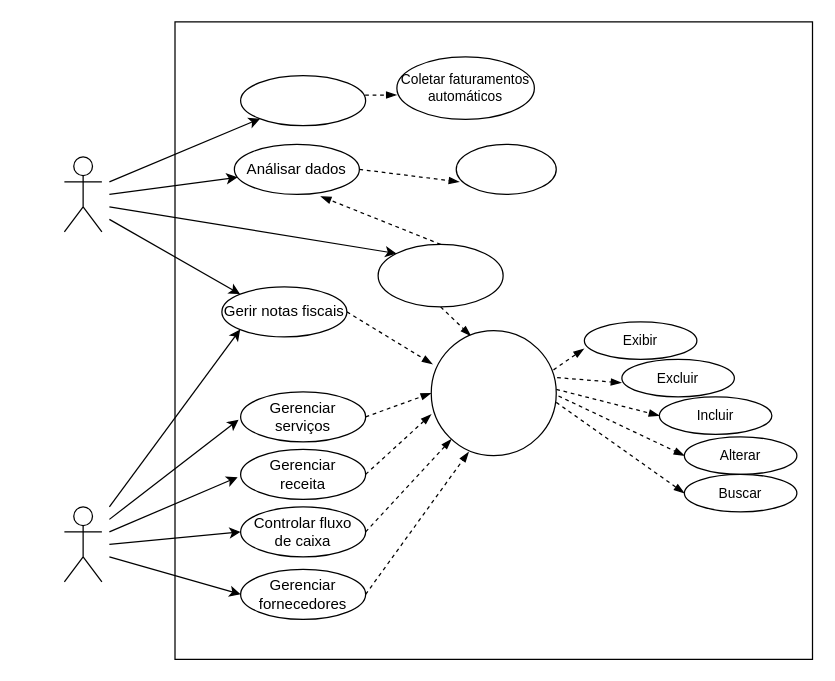
This 835x681 diagram has some shape labels left out. Each missing label, with the box of its shape:
Dashboard inteligente: (455, 143, 556, 194)
Enviar faturamentos: (239, 74, 366, 126)
Gerenciar relações com clientes: (377, 243, 503, 307)
Gerir dados relacionados: (430, 329, 556, 456)
Sócio Comercial: (63, 156, 102, 232)
Sócio Operacional: (63, 506, 102, 582)
